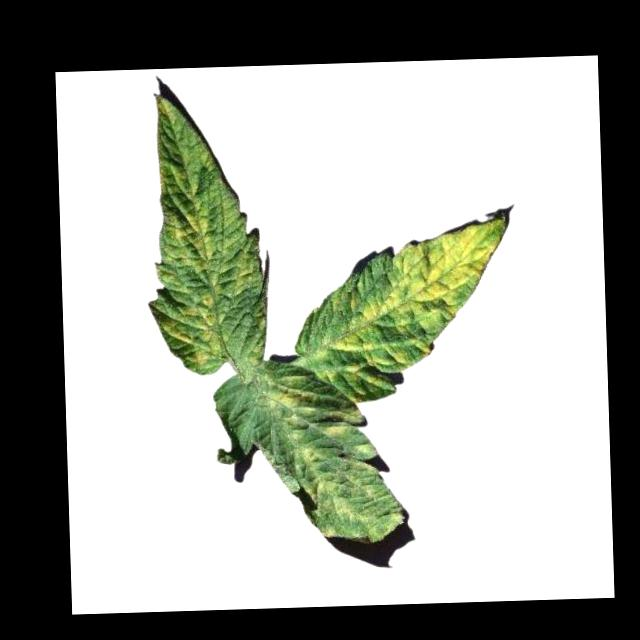Leaf_Mold: (299, 209, 515, 402), (145, 89, 273, 377), (261, 372, 402, 545)
